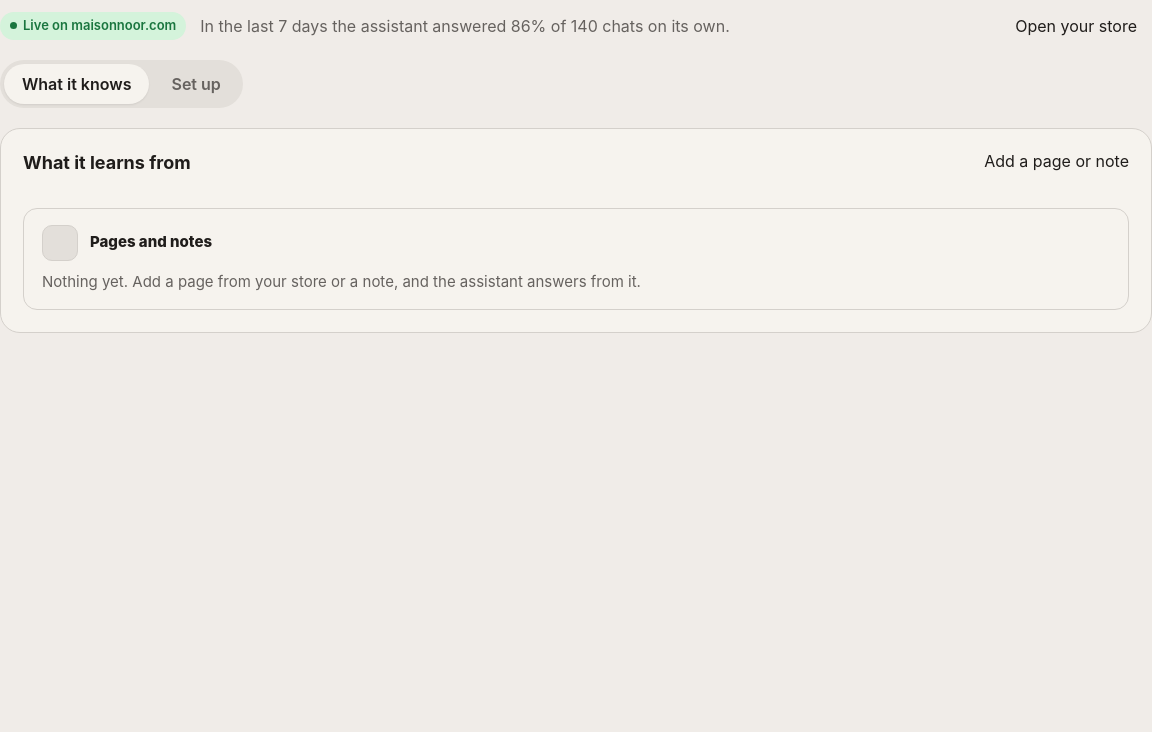
it: the v16 Store Chat page, What it knows › adds a note, then a page by link, through today’s knowledge action
The width and height of the screenshot is (1152, 732).
Click the button "Add a page or note": (1049, 160) [968,148,1129,172]
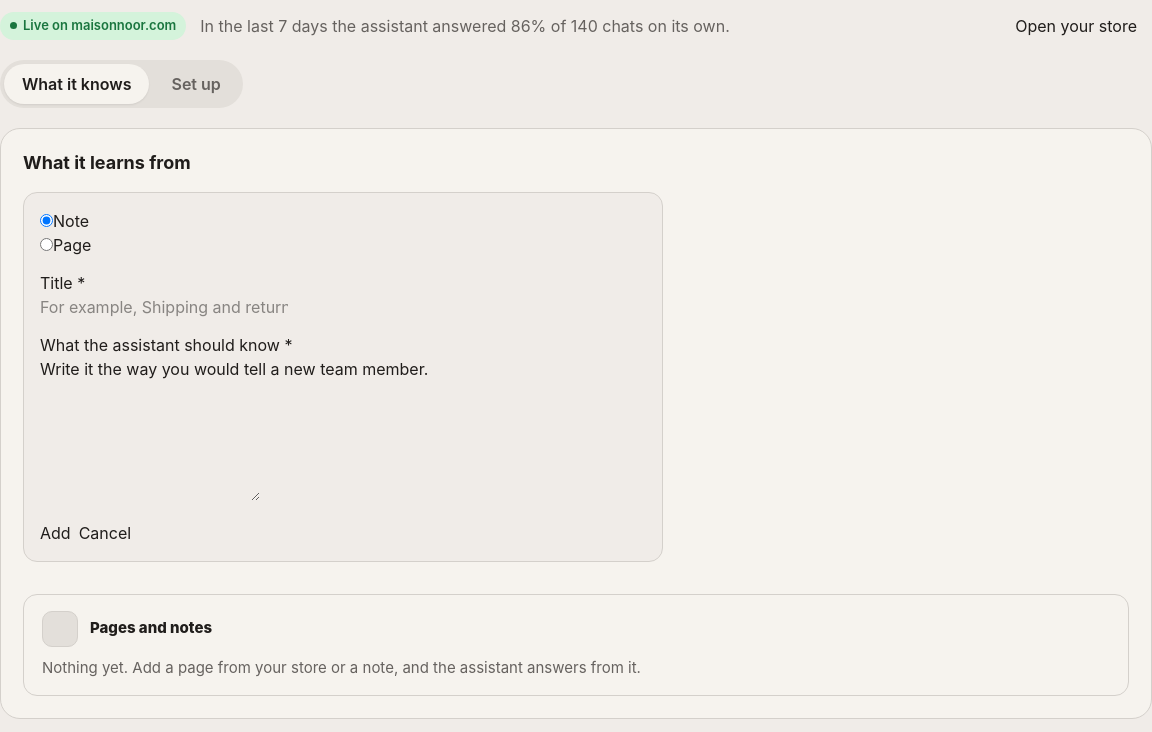
In the field labelled "Title *": (164, 306) [40,294,288,318], type "Fabric care"
In the text box labelled "What the assistant should know *": (150, 440) [40,380,260,500], type "Hand wash cold."
Click the button "Add": (55, 532) [40,520,71,544]
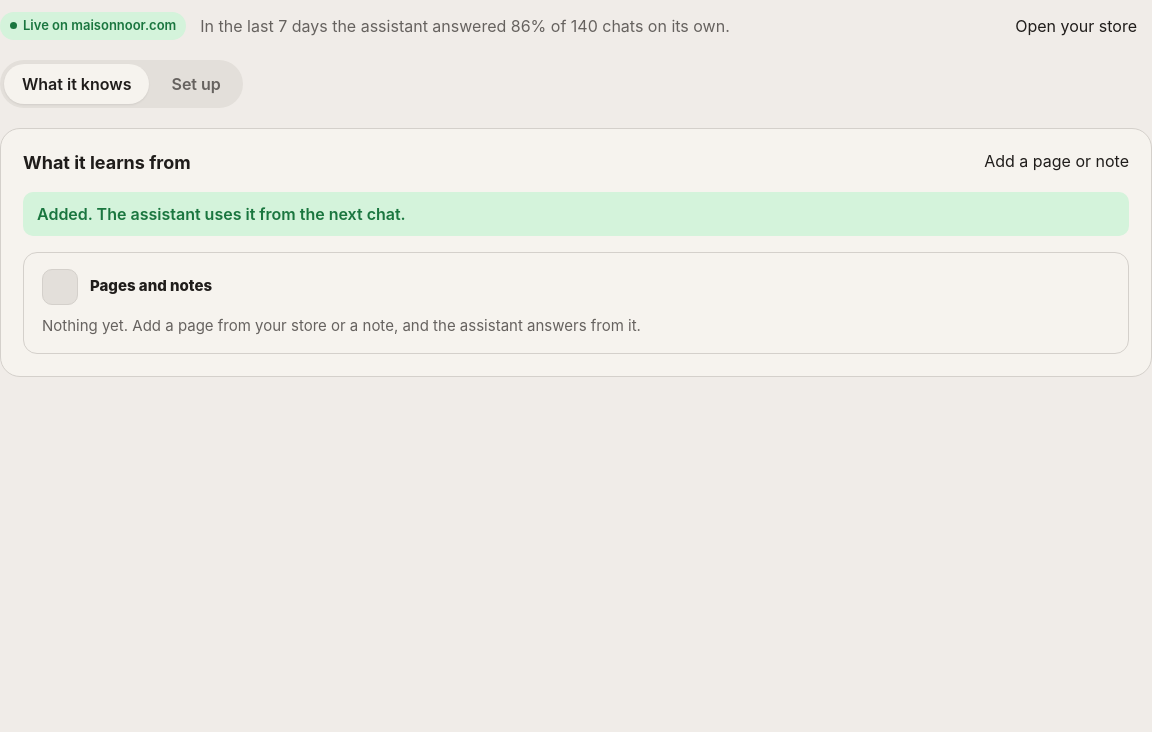
Check: the message reads "Added. The assistant uses it from the next chat.", box [37,204,406,224]
Click the button "Add a page or note": (1049, 160) [968,148,1129,172]
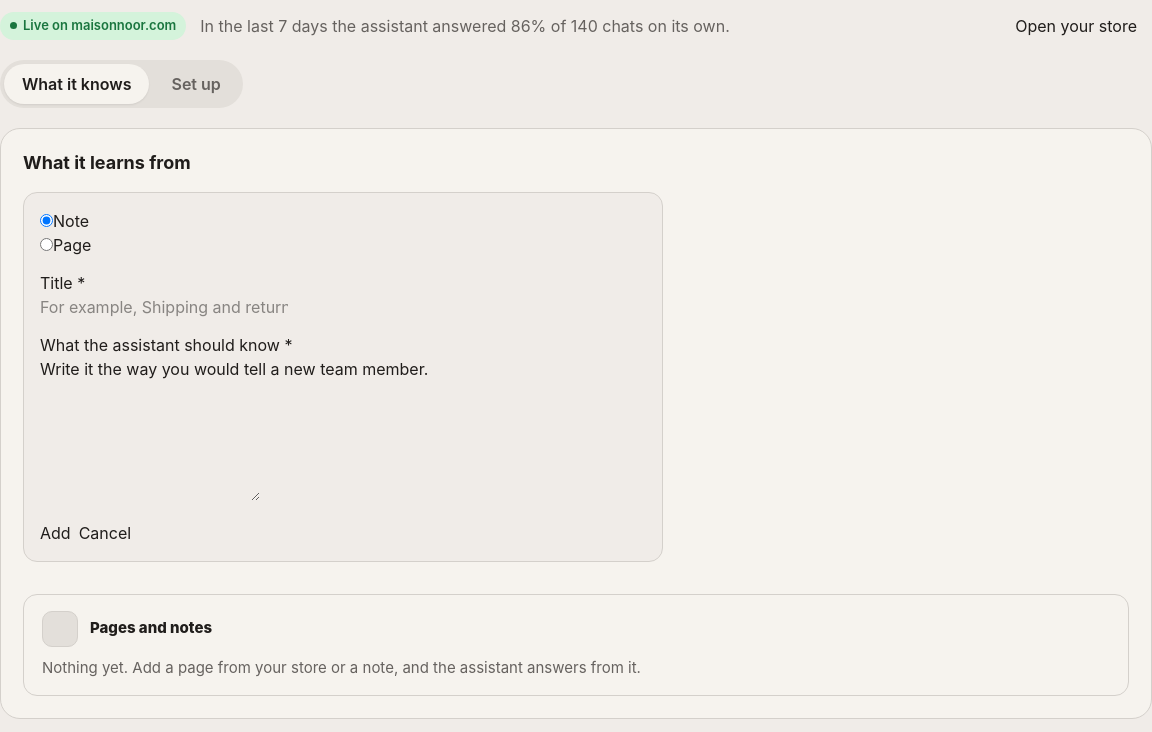
Click the radio button labelled "Page": (46, 244) [40,238,53,250]
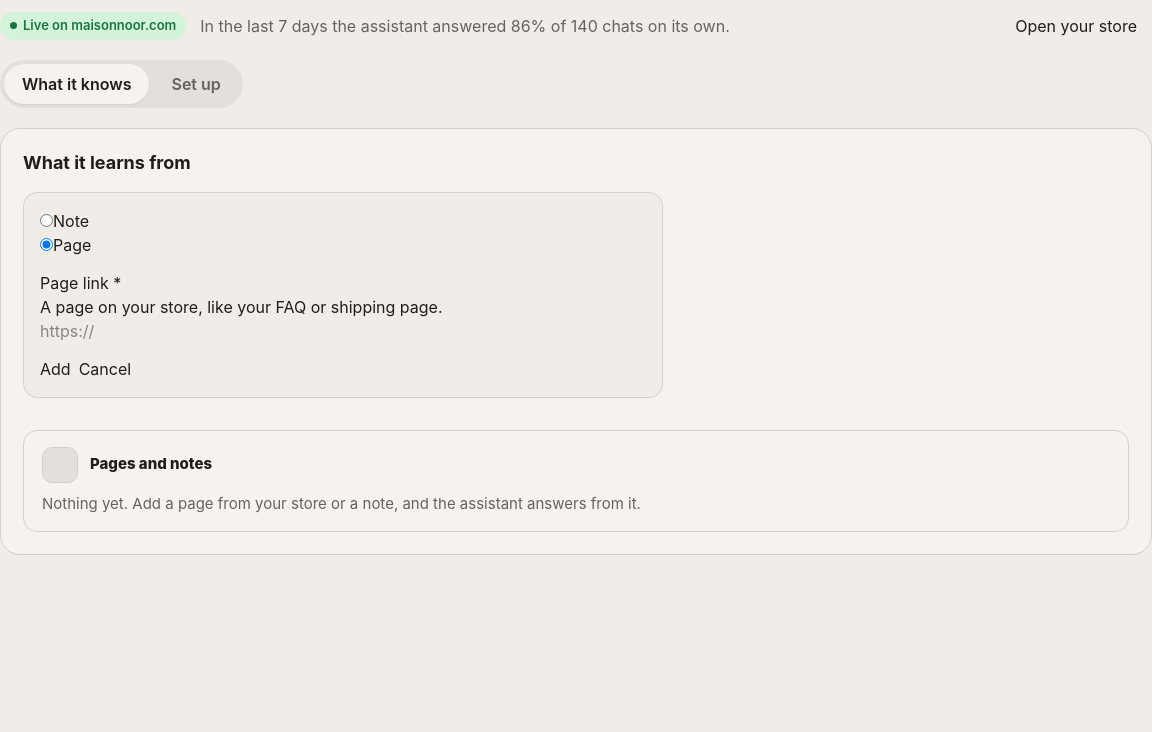
In the field labelled "Page link *": (164, 330) [40,318,288,342], type "https://maisonnoor.com/pages/faq"
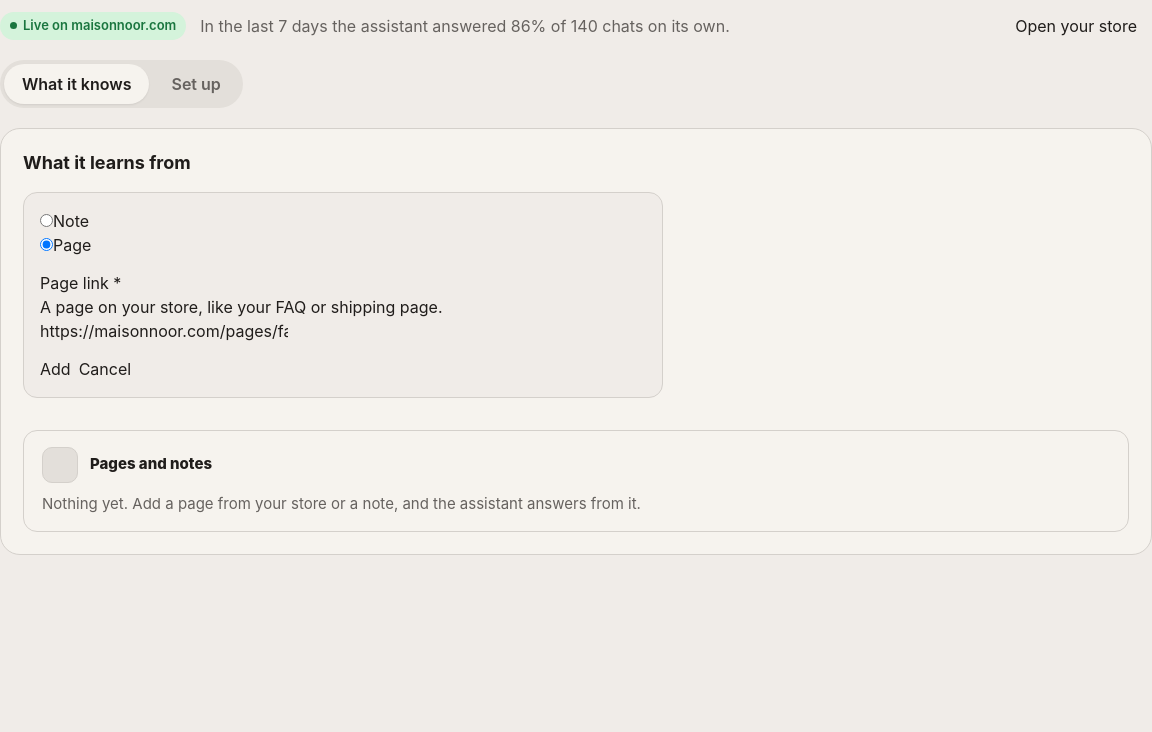
Click the button "Add": (55, 368) [40,356,71,380]
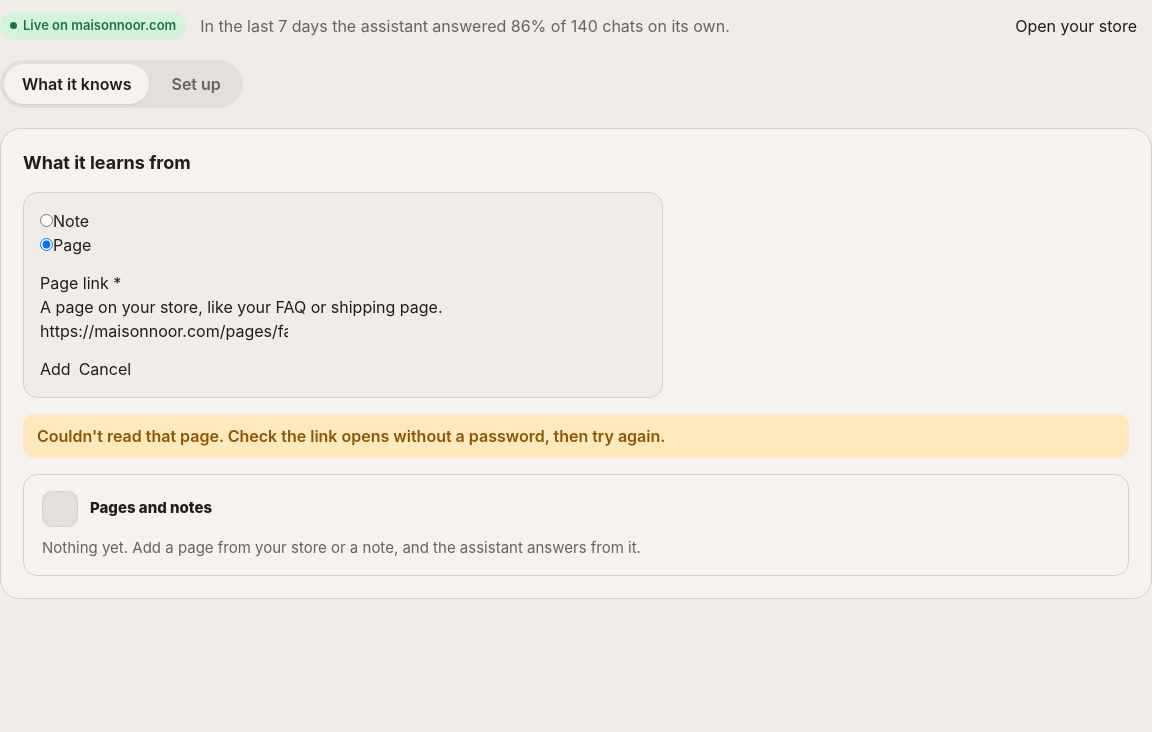
Check: the message shows "Couldn't read that page.", box [37,426,665,446]
